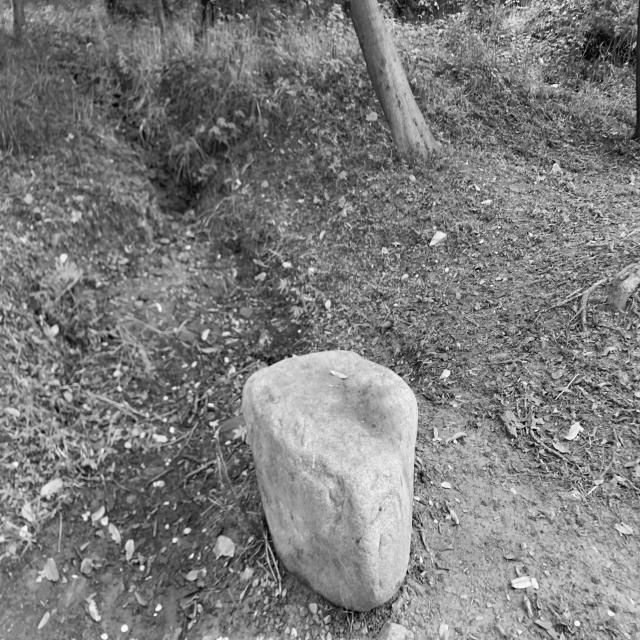Stone: (242, 351, 418, 611)
